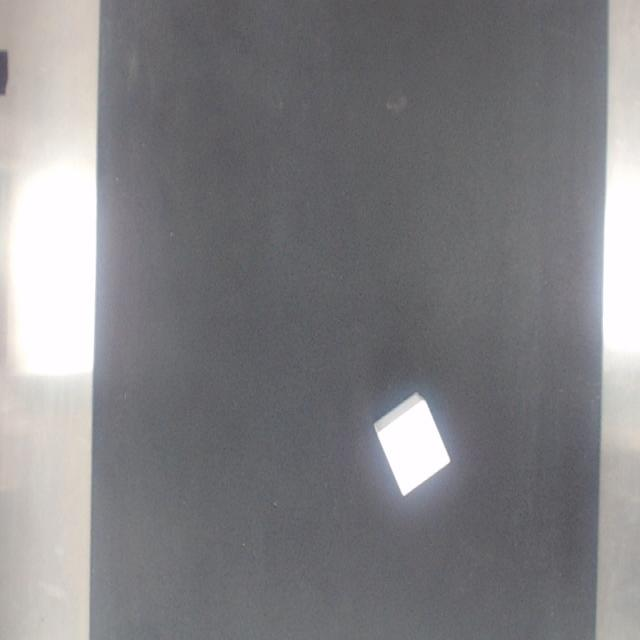Blanco: (374, 393, 450, 495)
